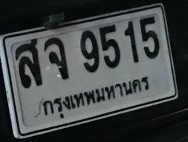txt06: (43, 36, 72, 82)
txt35: (14, 37, 43, 91)
